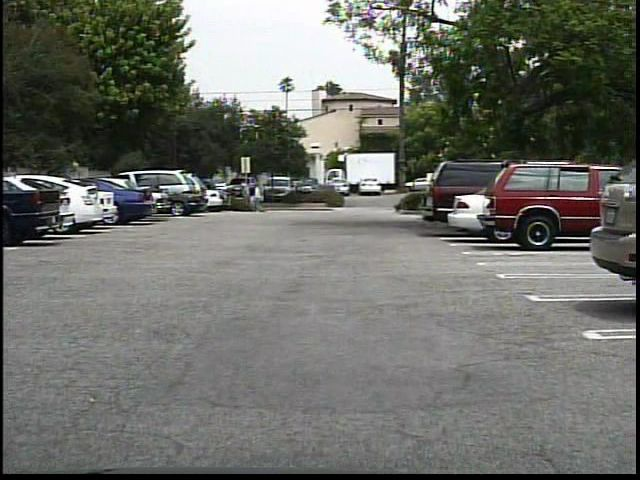person: (238, 180, 253, 208), (253, 182, 266, 213), (252, 184, 253, 215)
